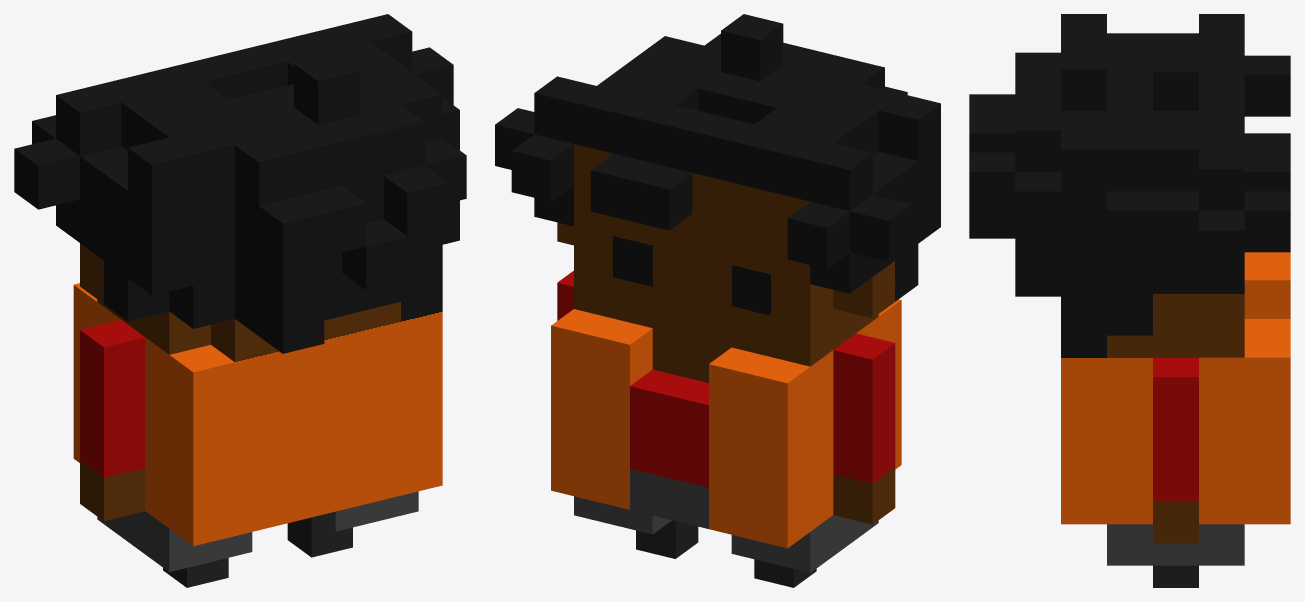
File: chr_hunter2.fbx
3 views of the same model, side by side, from view 1: azimuth 30°, elevation 25°; view 2: azimuth 150°, elevation 25°; view 3: azimuth 270°, elevation 25° (orthographic). The views are drawn at different scales.
Parts seen in each view (by area): view 1: chr_hunter2; view 2: chr_hunter2; view 3: chr_hunter2.
Boxes of the visible parts, left/top/right/bottom form: chr_hunter2: left=14, top=14, right=466, bottom=587; chr_hunter2: left=495, top=14, right=940, bottom=587; chr_hunter2: left=969, top=14, right=1290, bottom=587.
Size of the model in its own units: 1 by 0.7 by 1.2.
